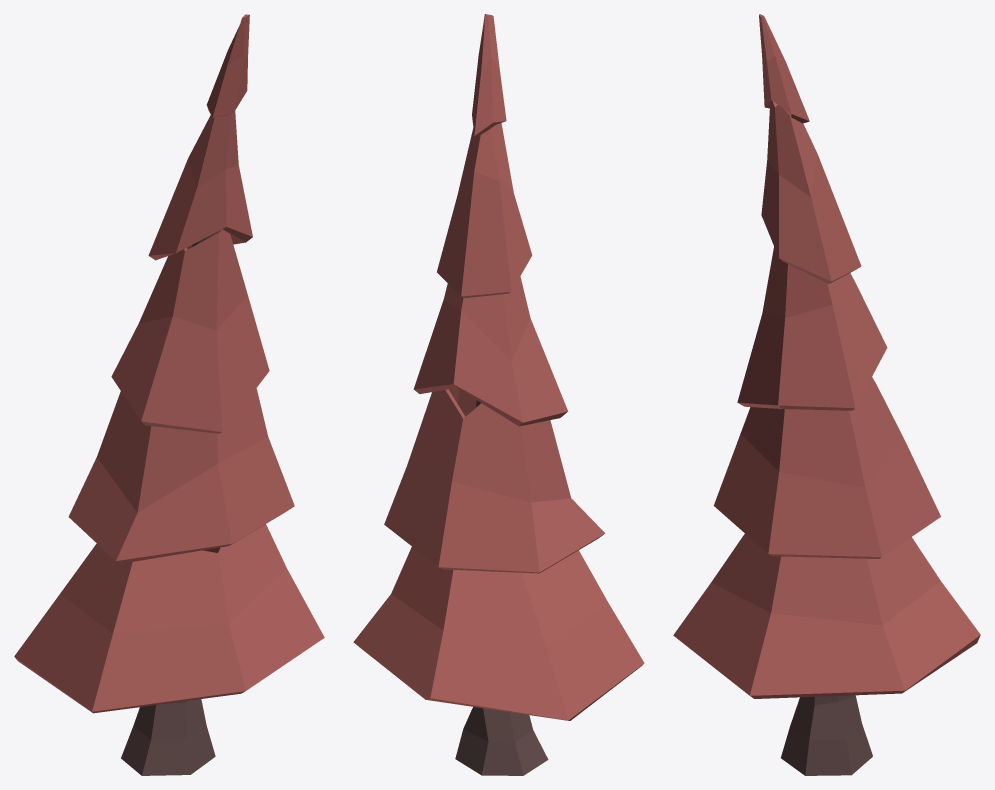
File: Tree_Pine7.fbx
The picture shows the model from 3 angles, left to right: view 1: azimuth 30°, elevation 25°; view 2: azimuth 150°, elevation 25°; view 3: azimuth 270°, elevation 25°; orthographic projection. The views are drawn at different scales.
Visible parts, largest first — view 1: Cylinder.017; view 2: Cylinder.017; view 3: Cylinder.017.
Part boxes in pixels (x1,y1,x2,y2): Cylinder.017: (14, 14, 324, 775); Cylinder.017: (353, 14, 644, 775); Cylinder.017: (673, 14, 980, 775).
Size of the model in its own units: 272 by 844 by 308.
